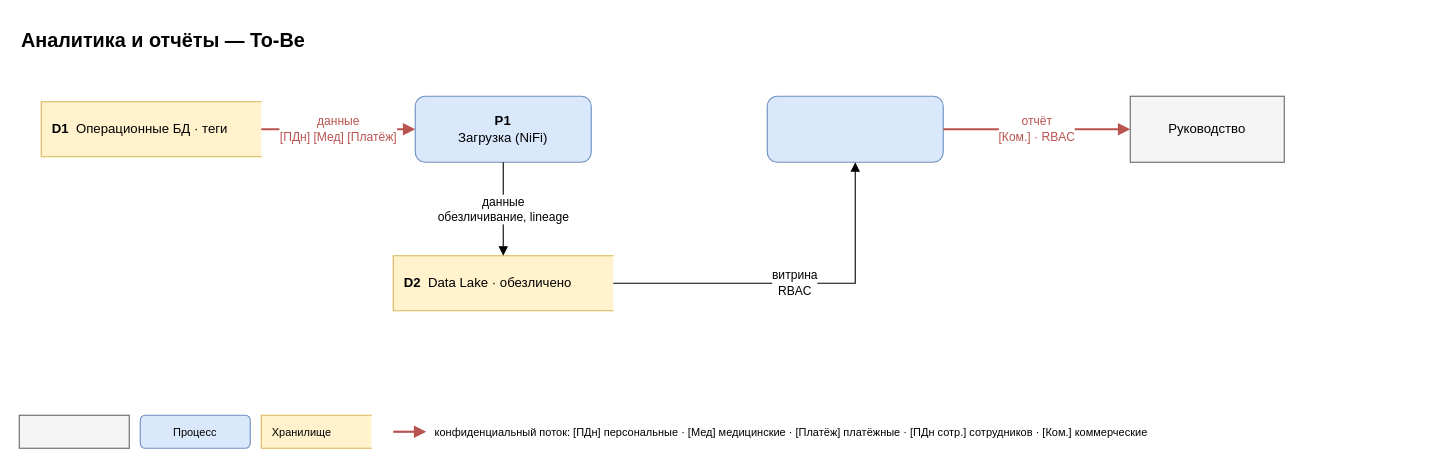
Some shapes in this 1442 by 468 pixel diagram are drawn without their labels. Here are the shapes that lost their labels. From the top down, the box of each, then its label:
(766, 95, 943, 162): P2 BI / ML
(18, 414, 129, 448): Внешний субъект
